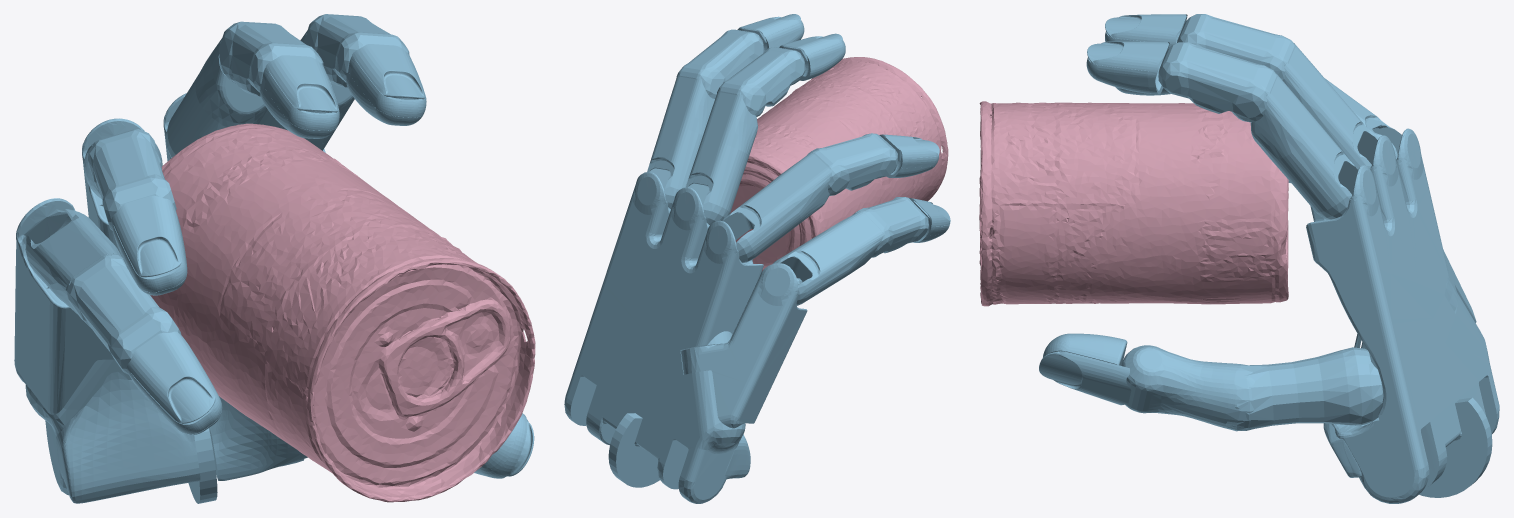
3 renders of one model, left to right at view 1: azimuth 30°, elevation 25°; view 2: azimuth 150°, elevation 25°; view 3: azimuth 270°, elevation 25°, orthographic. The views are drawn at different scales.
Visible parts, largest first — view 1: tomato_soup_can.stl, world; view 2: world, tomato_soup_can.stl; view 3: world, tomato_soup_can.stl.
Part boxes in pixels (x1=…): tomato_soup_can.stl: x1=150, y1=123, x2=535, y2=502; world: x1=14, y1=14, x2=534, y2=503; world: x1=564, y1=14, x2=950, y2=503; tomato_soup_can.stl: x1=730, y1=57, x2=948, y2=277; world: x1=1039, y1=14, x2=1499, y2=503; tomato_soup_can.stl: x1=979, y1=101, x2=1288, y2=306.
Size of the model in its own units: 0.1176 by 0.1647 by 0.1713.
